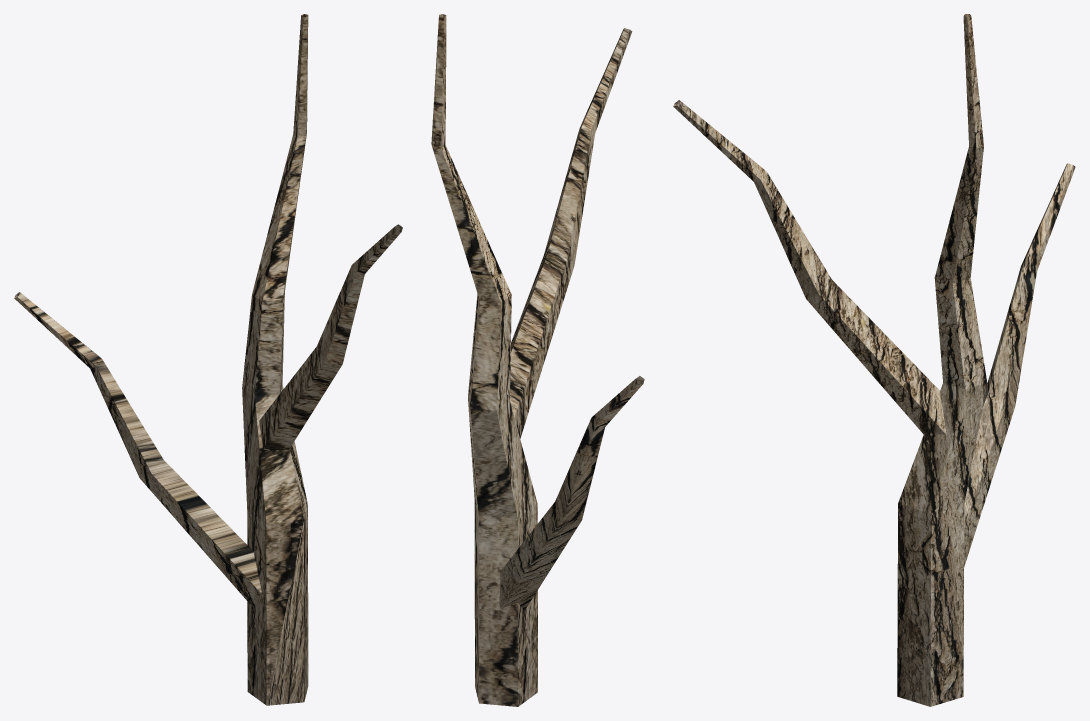
Rendered from Дерево1.fbx.
3 renders of one model, left to right at view 1: azimuth 30°, elevation 25°; view 2: azimuth 150°, elevation 25°; view 3: azimuth 270°, elevation 25°, orthographic. The views are drawn at different scales.
Visible parts, largest first — view 1: trunks; view 2: trunks; view 3: trunks.
Part boxes in pixels (<box>): trunks: <box>14,14,402,705</box>; trunks: <box>431,14,644,706</box>; trunks: <box>673,14,1075,706</box>.
Bounding box in the file's own units: 3484 × 8903 × 4579.
